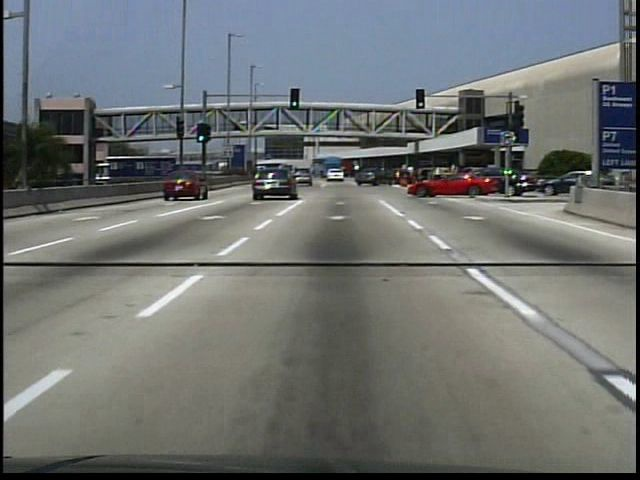person: (406, 164, 419, 188), (234, 121, 242, 135)
